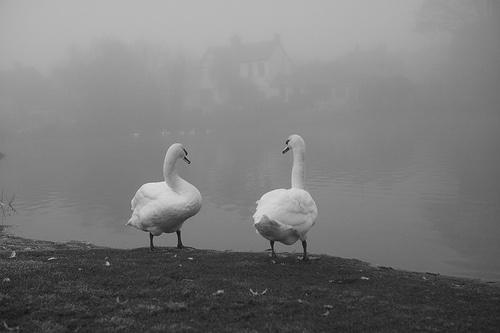bird: (125, 142, 205, 255), (254, 135, 320, 266)
